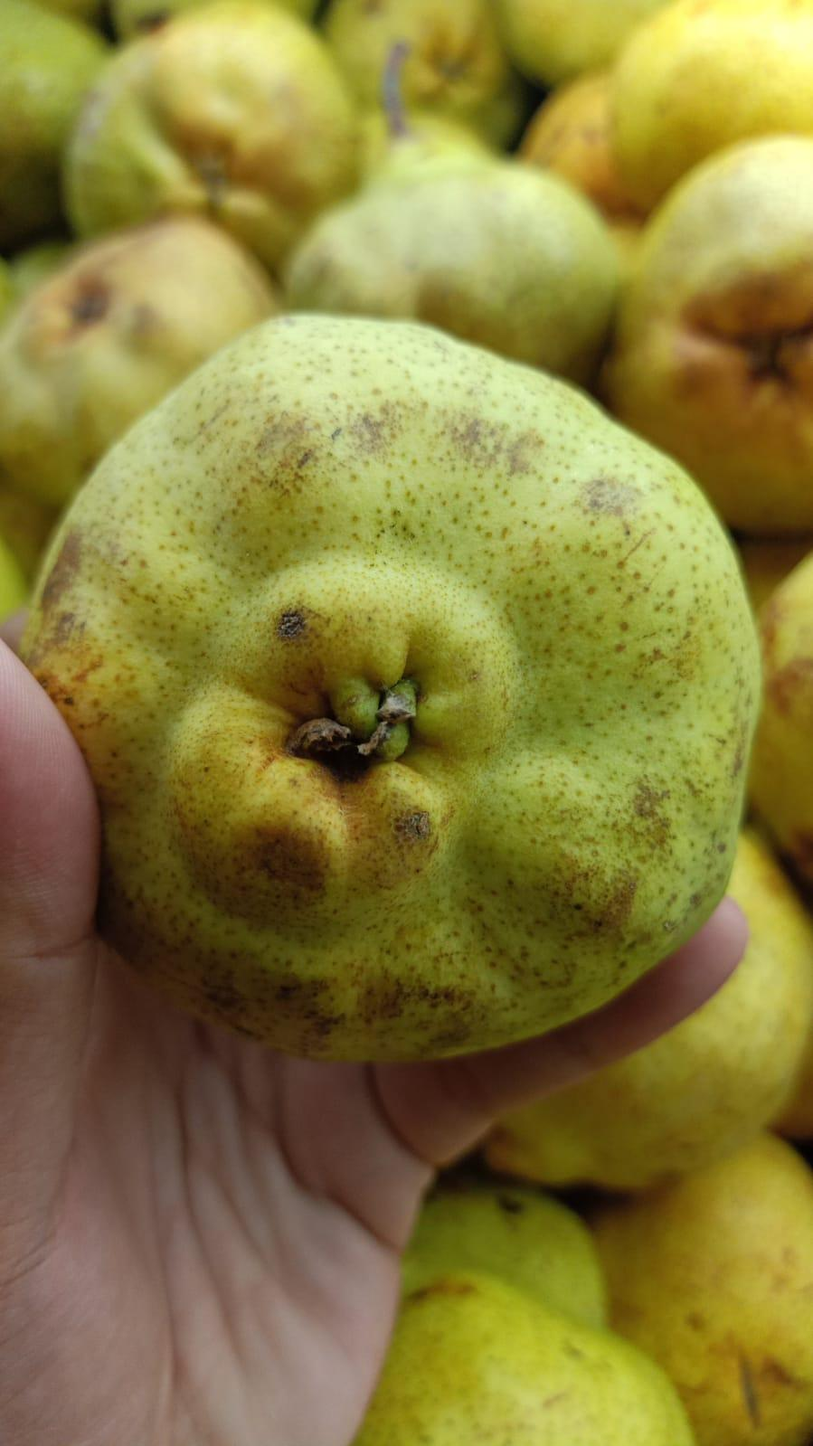Pear Unripe: (112, 271, 604, 1171)
